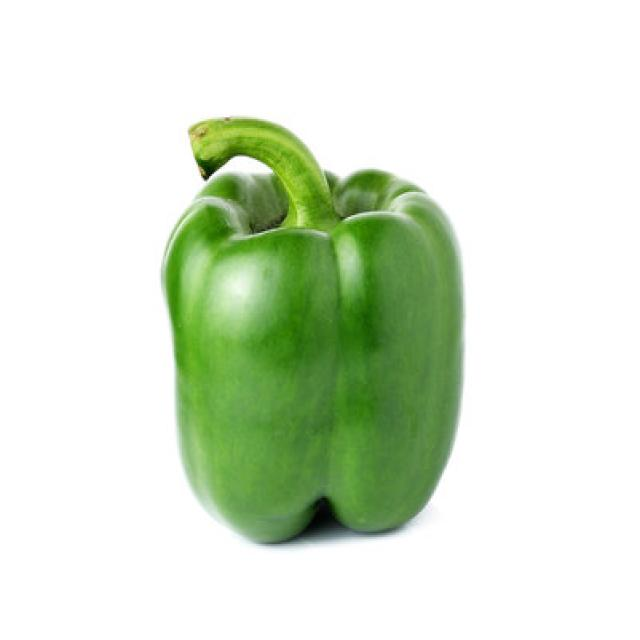Bell Pepper: (158, 114, 466, 544)
